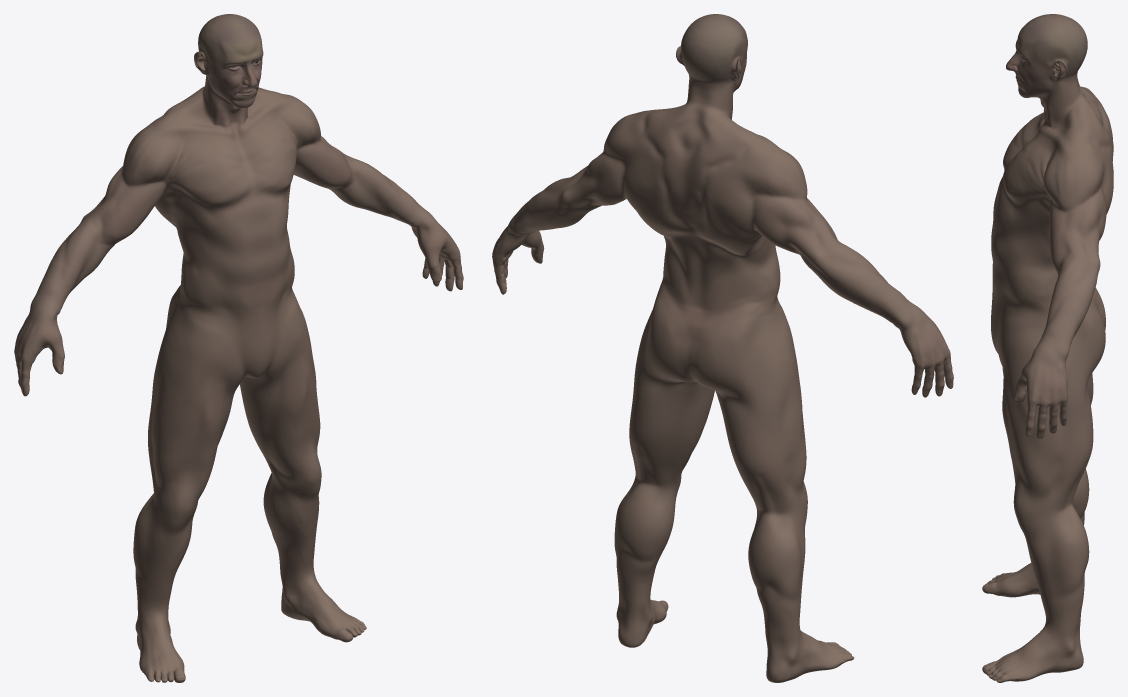
File: human-body.glb
3 views of the same model, side by side, from view 1: azimuth 30°, elevation 25°; view 2: azimuth 150°, elevation 25°; view 3: azimuth 270°, elevation 25° (orthographic). The views are drawn at different scales.
Visible parts, largest first — view 1: Anatomy; view 2: Anatomy; view 3: Anatomy.
Part boxes in pixels (bbox=[...]): Anatomy: bbox=[14, 14, 463, 682]; Anatomy: bbox=[492, 14, 953, 682]; Anatomy: bbox=[982, 14, 1113, 682].
Size of the model in its own units: 14.04 by 18.87 by 3.65.
